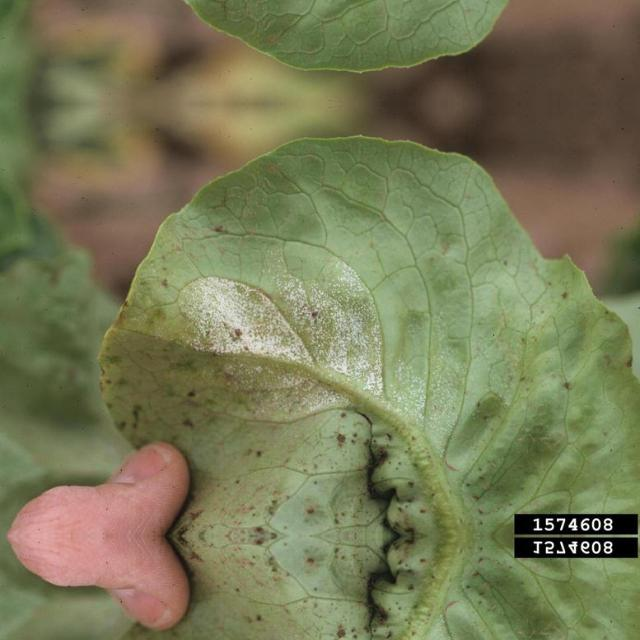Downy_mildew: (95, 140, 640, 535), (95, 535, 640, 640), (95, 0, 640, 65)
